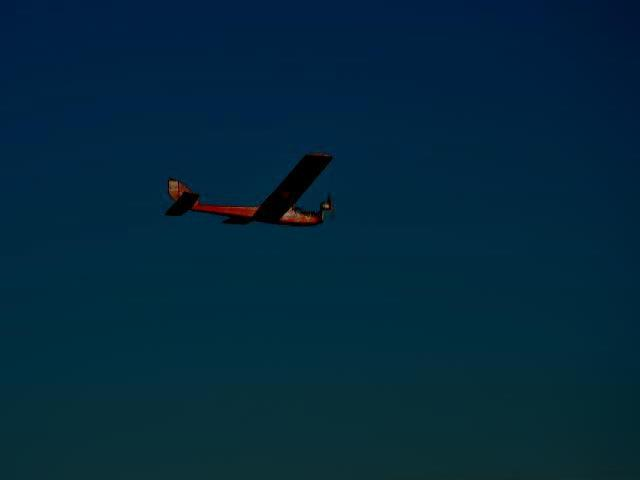iha: (156, 149, 336, 227)
